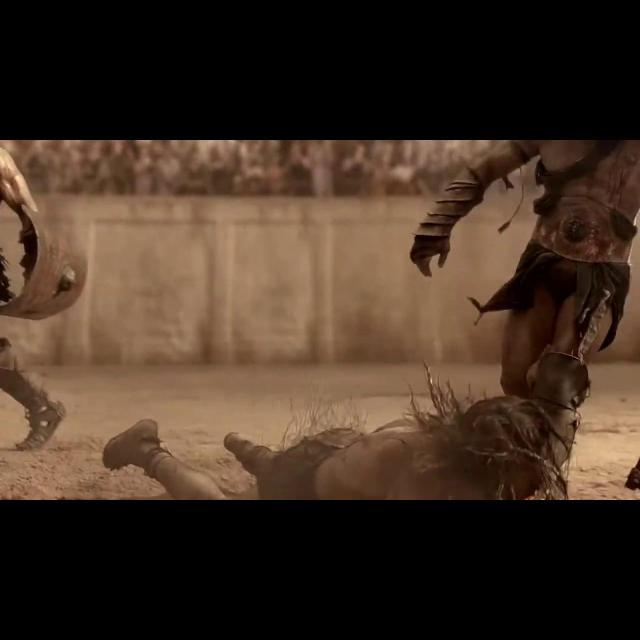blood: (597, 149, 638, 208)
